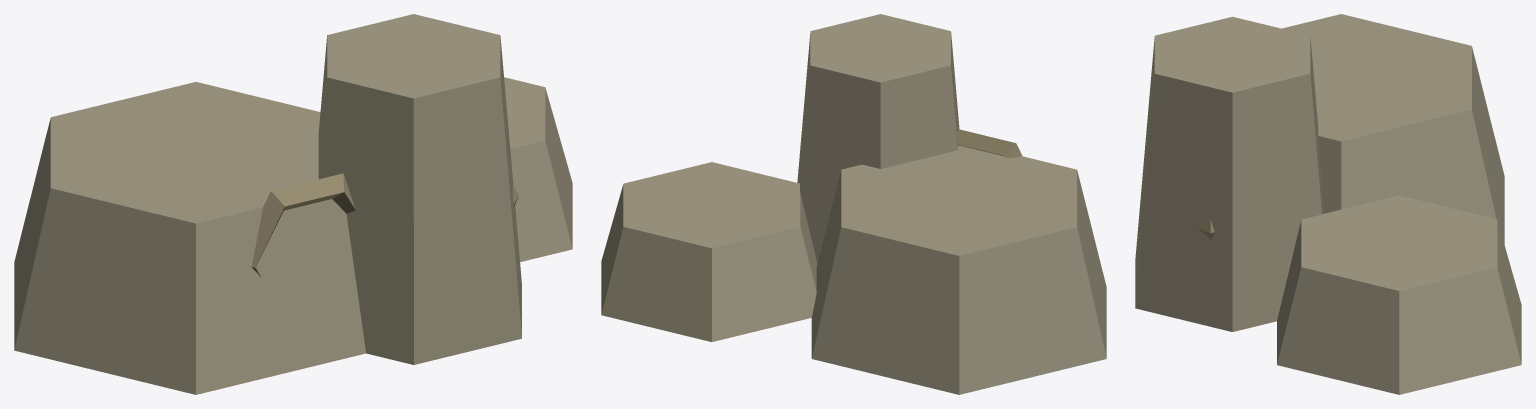
File: map-exclusive-v3__meadow_09.glb
3 renders of one model, left to right at view 1: azimuth 30°, elevation 25°; view 2: azimuth 150°, elevation 25°; view 3: azimuth 270°, elevation 25°, orthographic. The views are drawn at different scales.
Parts seen in each view (by area): view 1: meadow_09; view 2: meadow_09; view 3: meadow_09.
Part boxes in pixels (box(x1,y1,x2,y2)): meadow_09: box(14, 14, 572, 394); meadow_09: box(601, 14, 1106, 394); meadow_09: box(1135, 14, 1521, 394).
Size of the model in its own units: 1.69 by 0.7 by 1.07.
